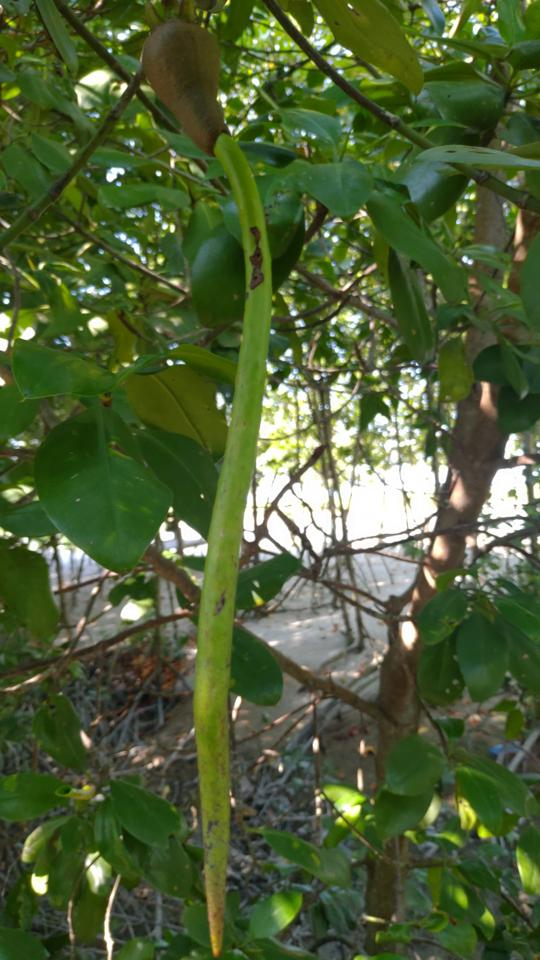mentah: (131, 10, 296, 955)
